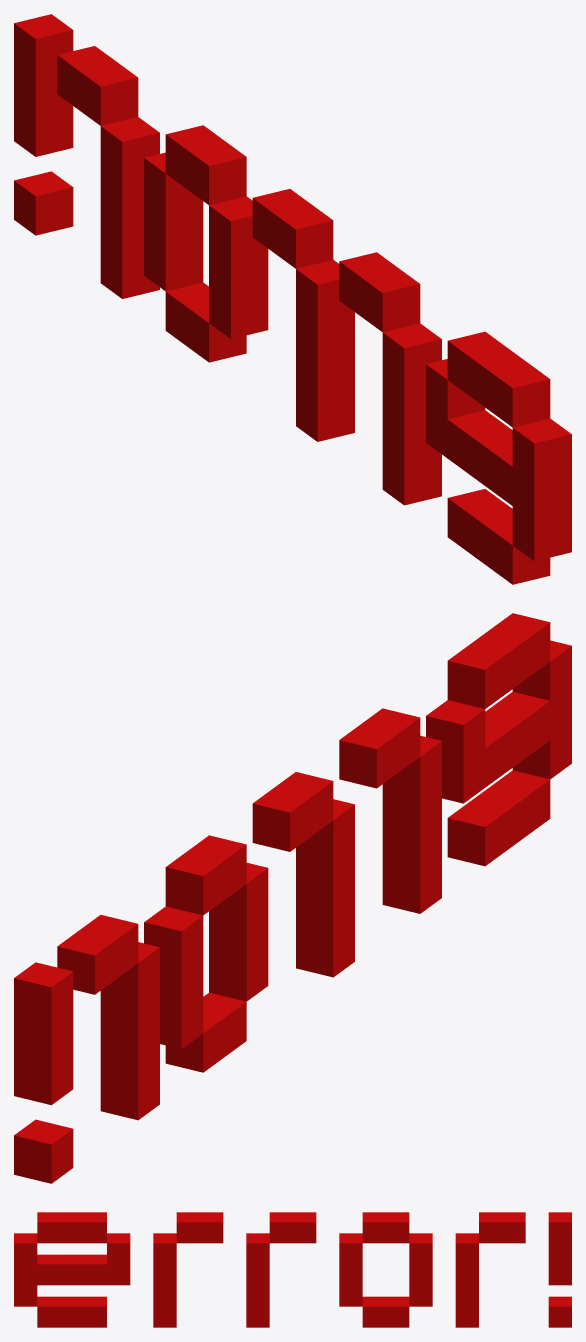
File: error.glb
The picture shows the model from 3 angles, top to bottom: view 1: azimuth 30°, elevation 25°; view 2: azimuth 150°, elevation 25°; view 3: azimuth 270°, elevation 25°; orthographic projection. The views are drawn at different scales.
Bounding box in the file's own units: 1 × 5 × 24.
